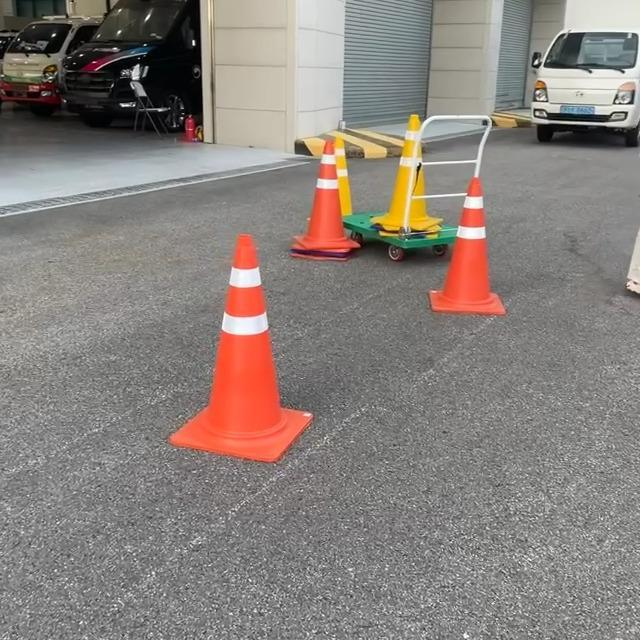fallen_object: (175, 233, 344, 506), (437, 166, 536, 339), (277, 123, 370, 288), (390, 102, 462, 244)
